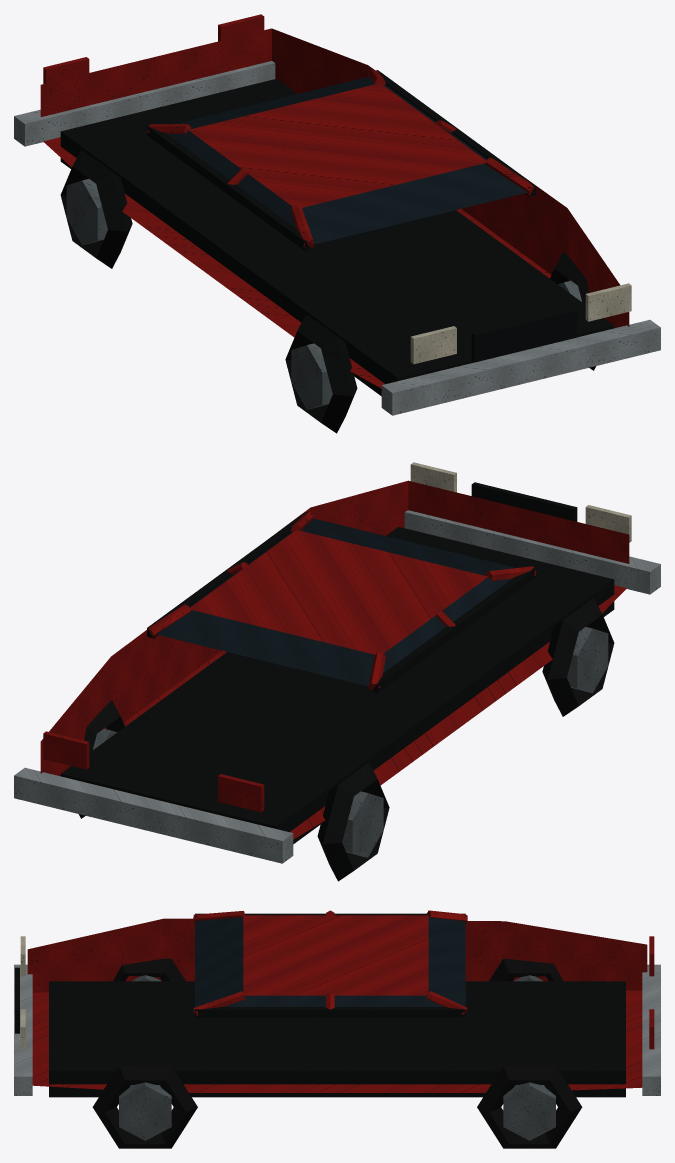
The model's file is PROP-E4E48824DC10_lod2.glb.
3 views of the same model, one above another, from view 1: azimuth 30°, elevation 25°; view 2: azimuth 150°, elevation 25°; view 3: azimuth 270°, elevation 25° (orthographic). The views are drawn at different scales.
Visible parts, largest first — view 1: chassis.033, shaped_body_panels.033, roof_panel.031, bumper.033, sloped_cabin_glazing.033, tire.033, rim.033, window_belt.033, radiator_grille.033, lamp_lenses.066, window_pillars.033, lamp_lenses.067; view 2: chassis.033, shaped_body_panels.033, roof_panel.031, bumper.033, sloped_cabin_glazing.033, tire.033, rim.033, window_belt.033, lamp_lenses.067, lamp_lenses.066, window_pillars.033, radiator_grille.033; view 3: chassis.033, shaped_body_panels.033, roof_panel.031, tire.033, sloped_cabin_glazing.033, rim.033, bumper.033, window_belt.033, window_pillars.033, lamp_lenses.066, lamp_lenses.067.
Boxes of the visible parts, box(x1,y1,x2,y2) form: chassis.033: box(60, 79, 614, 396); shaped_body_panels.033: box(40, 28, 629, 388); roof_panel.031: box(188, 83, 485, 207); bumper.033: box(14, 61, 660, 415); sloped_cabin_glazing.033: box(167, 77, 527, 244); tire.033: box(60, 150, 596, 433); rim.033: box(66, 179, 581, 409); window_belt.033: box(147, 70, 536, 251); radiator_grille.033: box(471, 308, 577, 362); lamp_lenses.066: box(410, 283, 631, 364); window_pillars.033: box(147, 70, 534, 248); lamp_lenses.067: box(43, 14, 264, 83); chassis.033: box(60, 527, 614, 844); shaped_body_panels.033: box(40, 480, 629, 839); roof_panel.031: box(190, 530, 488, 654); bumper.033: box(14, 510, 660, 863); sloped_cabin_glazing.033: box(156, 518, 515, 686); tire.033: box(78, 598, 614, 881); rim.033: box(93, 627, 608, 857); window_belt.033: box(147, 512, 536, 692); lamp_lenses.067: box(43, 731, 264, 812); lamp_lenses.066: box(410, 462, 631, 542); window_pillars.033: box(148, 511, 536, 690); radiator_grille.033: box(471, 482, 577, 521); chassis.033: box(49, 981, 625, 1097); shaped_body_panels.033: box(27, 918, 647, 1092); roof_panel.031: box(243, 915, 428, 995); tire.033: box(92, 958, 582, 1148); sloped_cabin_glazing.033: box(195, 915, 465, 1006); rim.033: box(119, 975, 555, 1140); bumper.033: box(14, 964, 660, 1095); window_belt.033: box(195, 913, 465, 1017); window_pillars.033: box(193, 910, 467, 1015); lamp_lenses.066: box(20, 936, 25, 1049); lamp_lenses.067: box(649, 936, 654, 1049).
Bounding box in the file's own units: 1.98 × 1.11 × 4.54.
7 materials, 7 textured.
